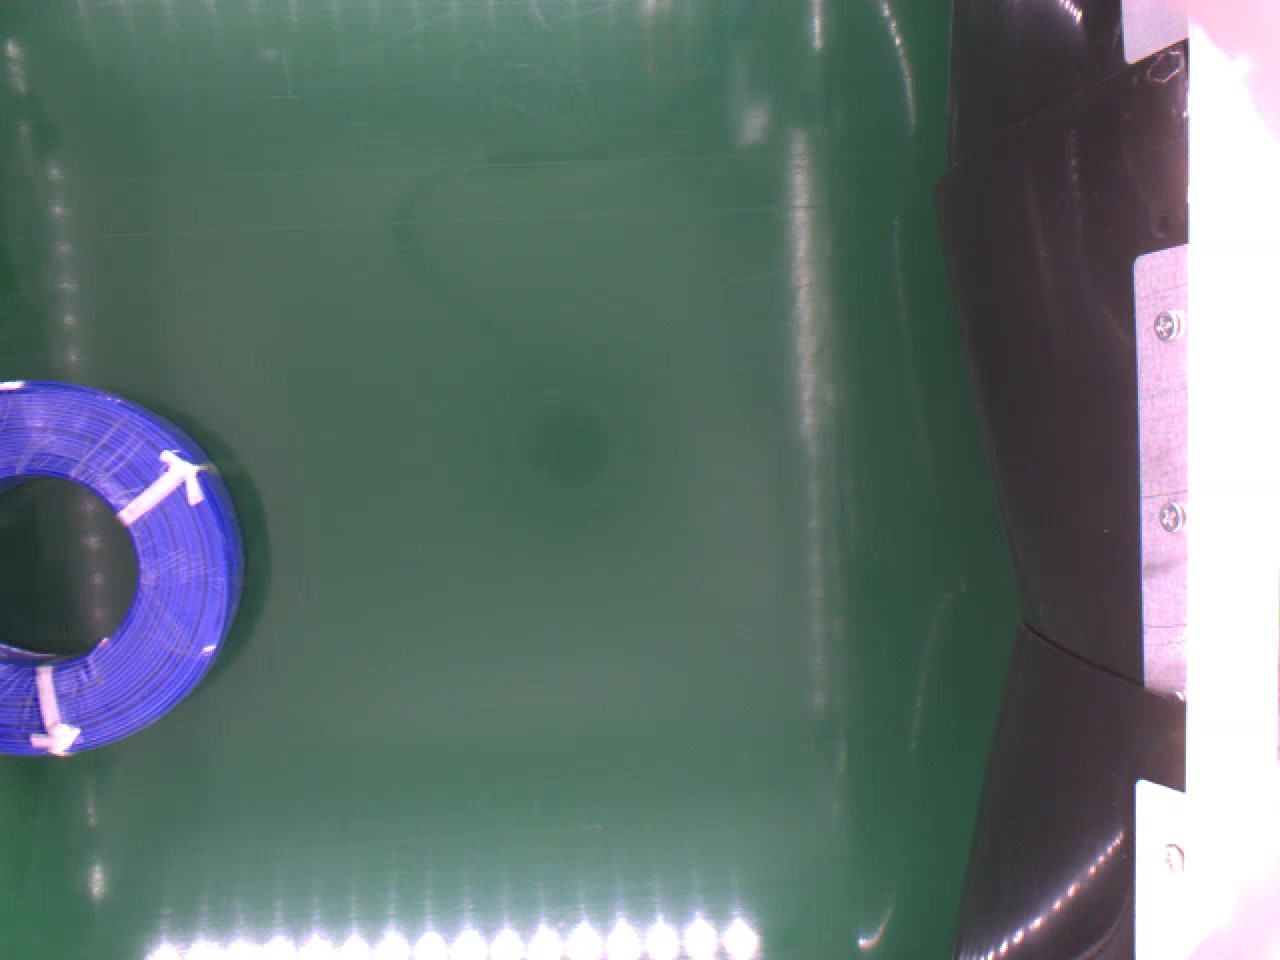blue: (0, 378, 246, 755)
